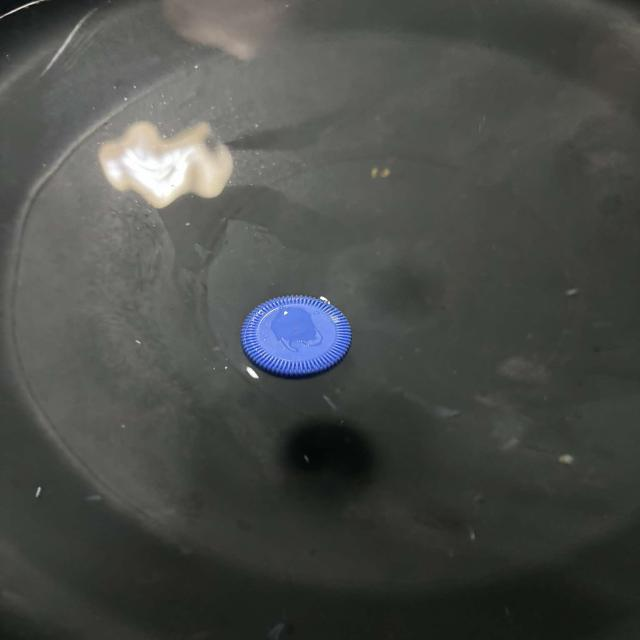Bottle Lid: (198, 276, 392, 404)
